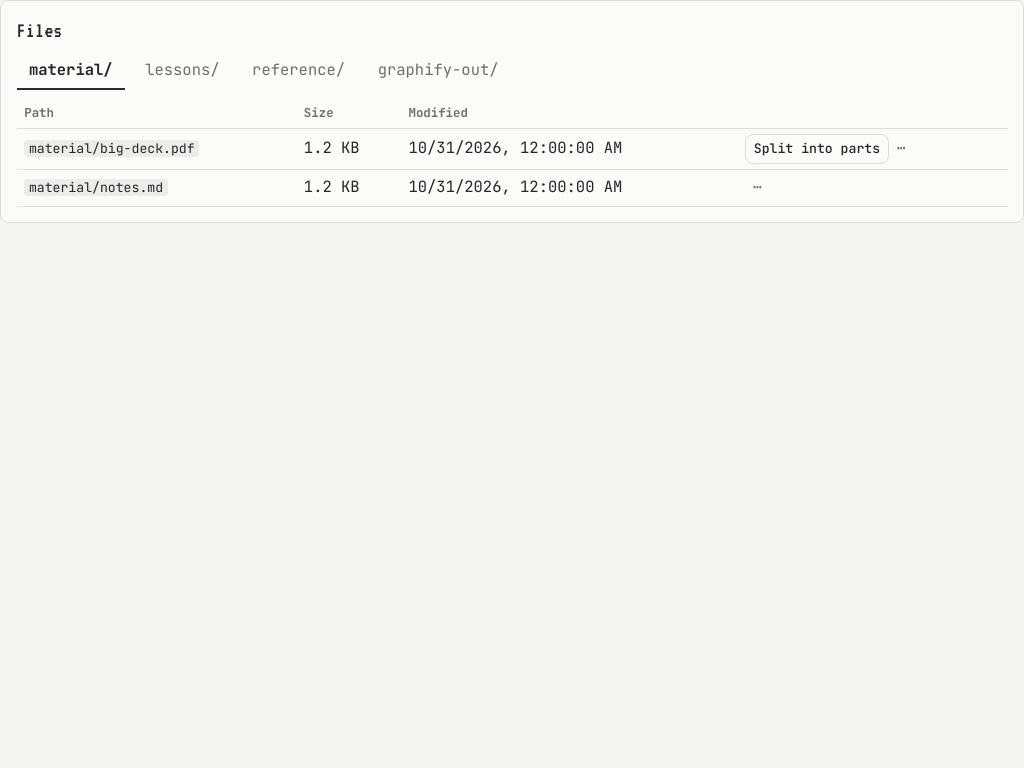
Test: FileBrowser split action › offers split only on PDFs, posts the file, lists the parts, and reloads
The image size is (1024, 768).
expect the text "material/big-deck.pdf" is shown: met, box [24,140,199,158]
Click the button "Split into parts".
click(817, 149)  # box [745,134,889,164]
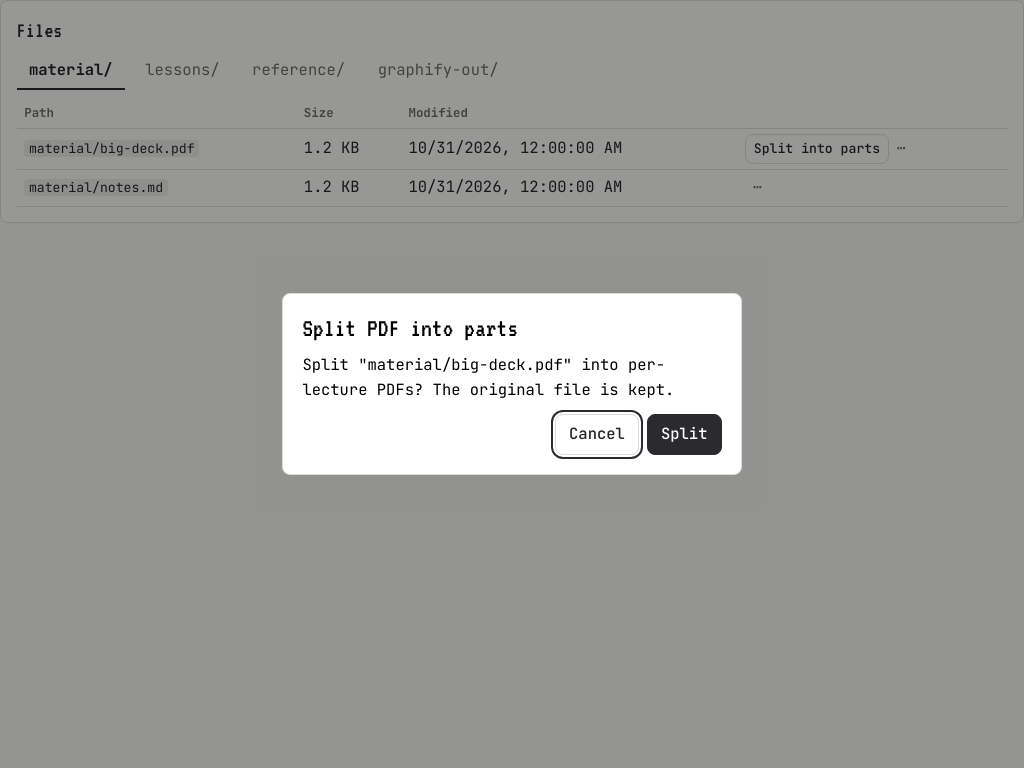
expect the dialog shows "big-deck.pdf": met, box [302,354,674,400]
Click the button "Split".
click(684, 434)  # box [647,414,722,455]
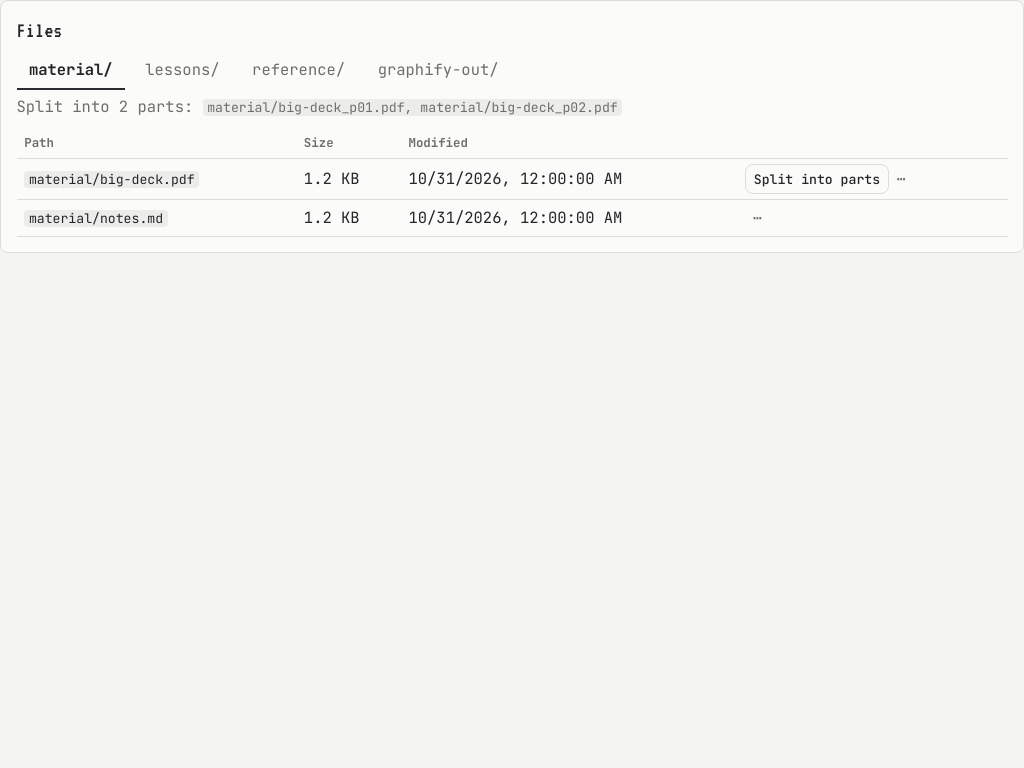
expect the text "Split into 2 parts: material/big-deck_p01.pdf, material/big-deck_p02.pdf" is shown: met, box [16,96,622,117]
expect the text "material/big-deck_p01.pdf, material/big-deck_p02.pdf" is shown: met, box [203,99,622,116]
